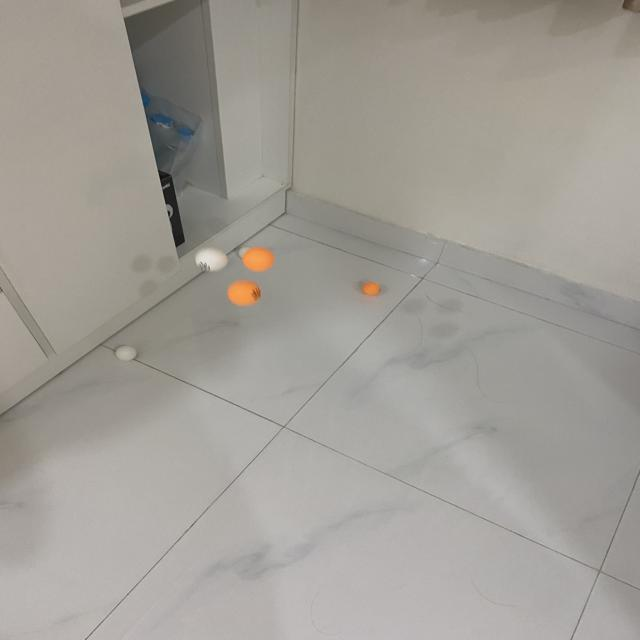ping-pong-ball: (226, 278, 262, 306), (242, 246, 274, 272), (196, 248, 230, 272), (114, 344, 136, 361), (361, 281, 381, 297), (238, 245, 252, 259)
